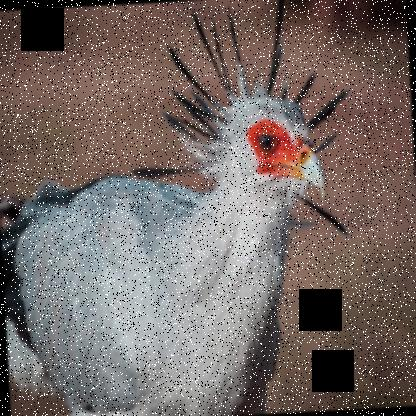Sagittarius serpentarius: (0, 0, 370, 415)
